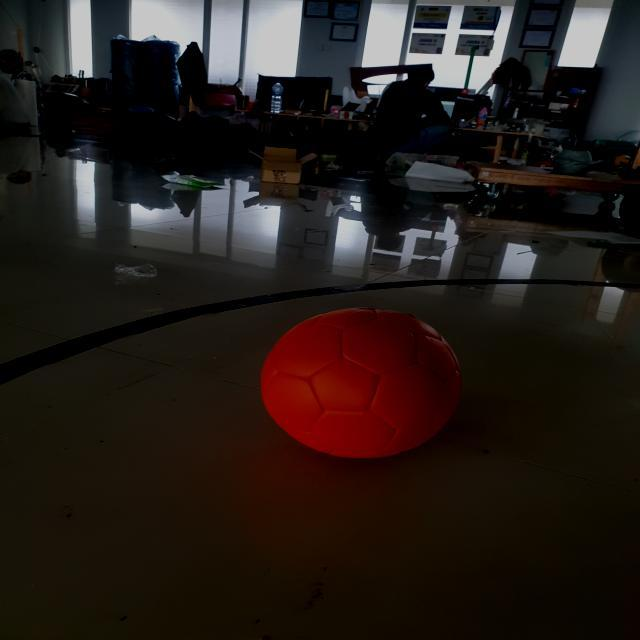bola: (248, 287, 486, 474)
